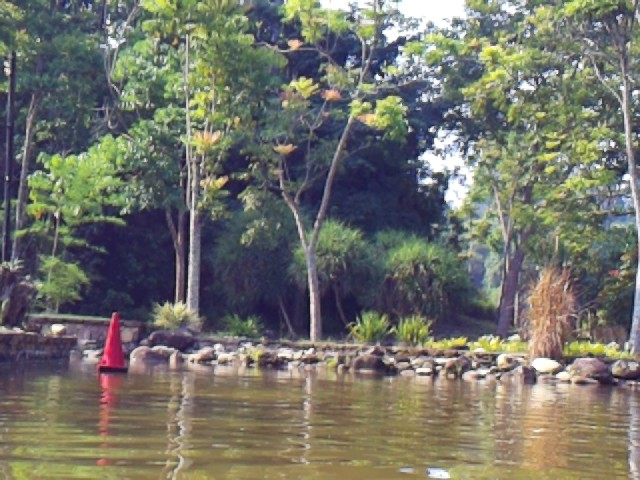obstacle: (96, 311, 129, 372)
